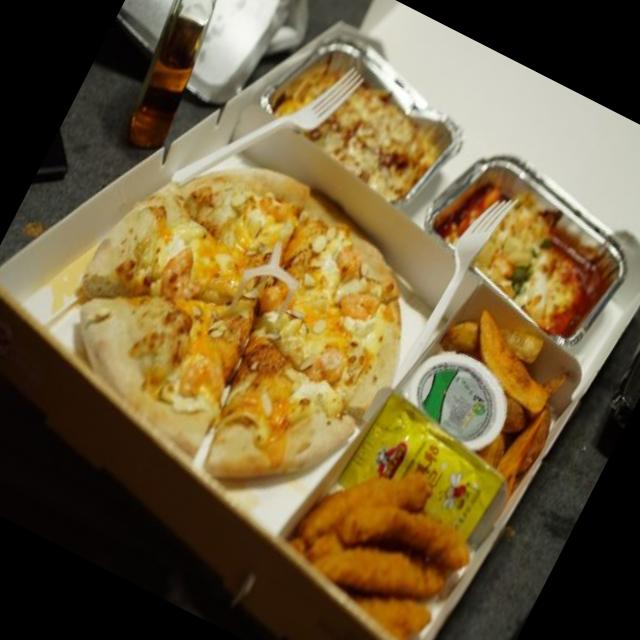aluminum foil: (0, 0, 640, 640), (412, 136, 634, 361), (245, 17, 471, 223)
glass bottle: (115, 0, 216, 144)
plastic-bag: (329, 377, 515, 547)
plastic-bowl: (398, 341, 515, 460)
plastic-spoon: (163, 59, 363, 190), (393, 189, 522, 390)
